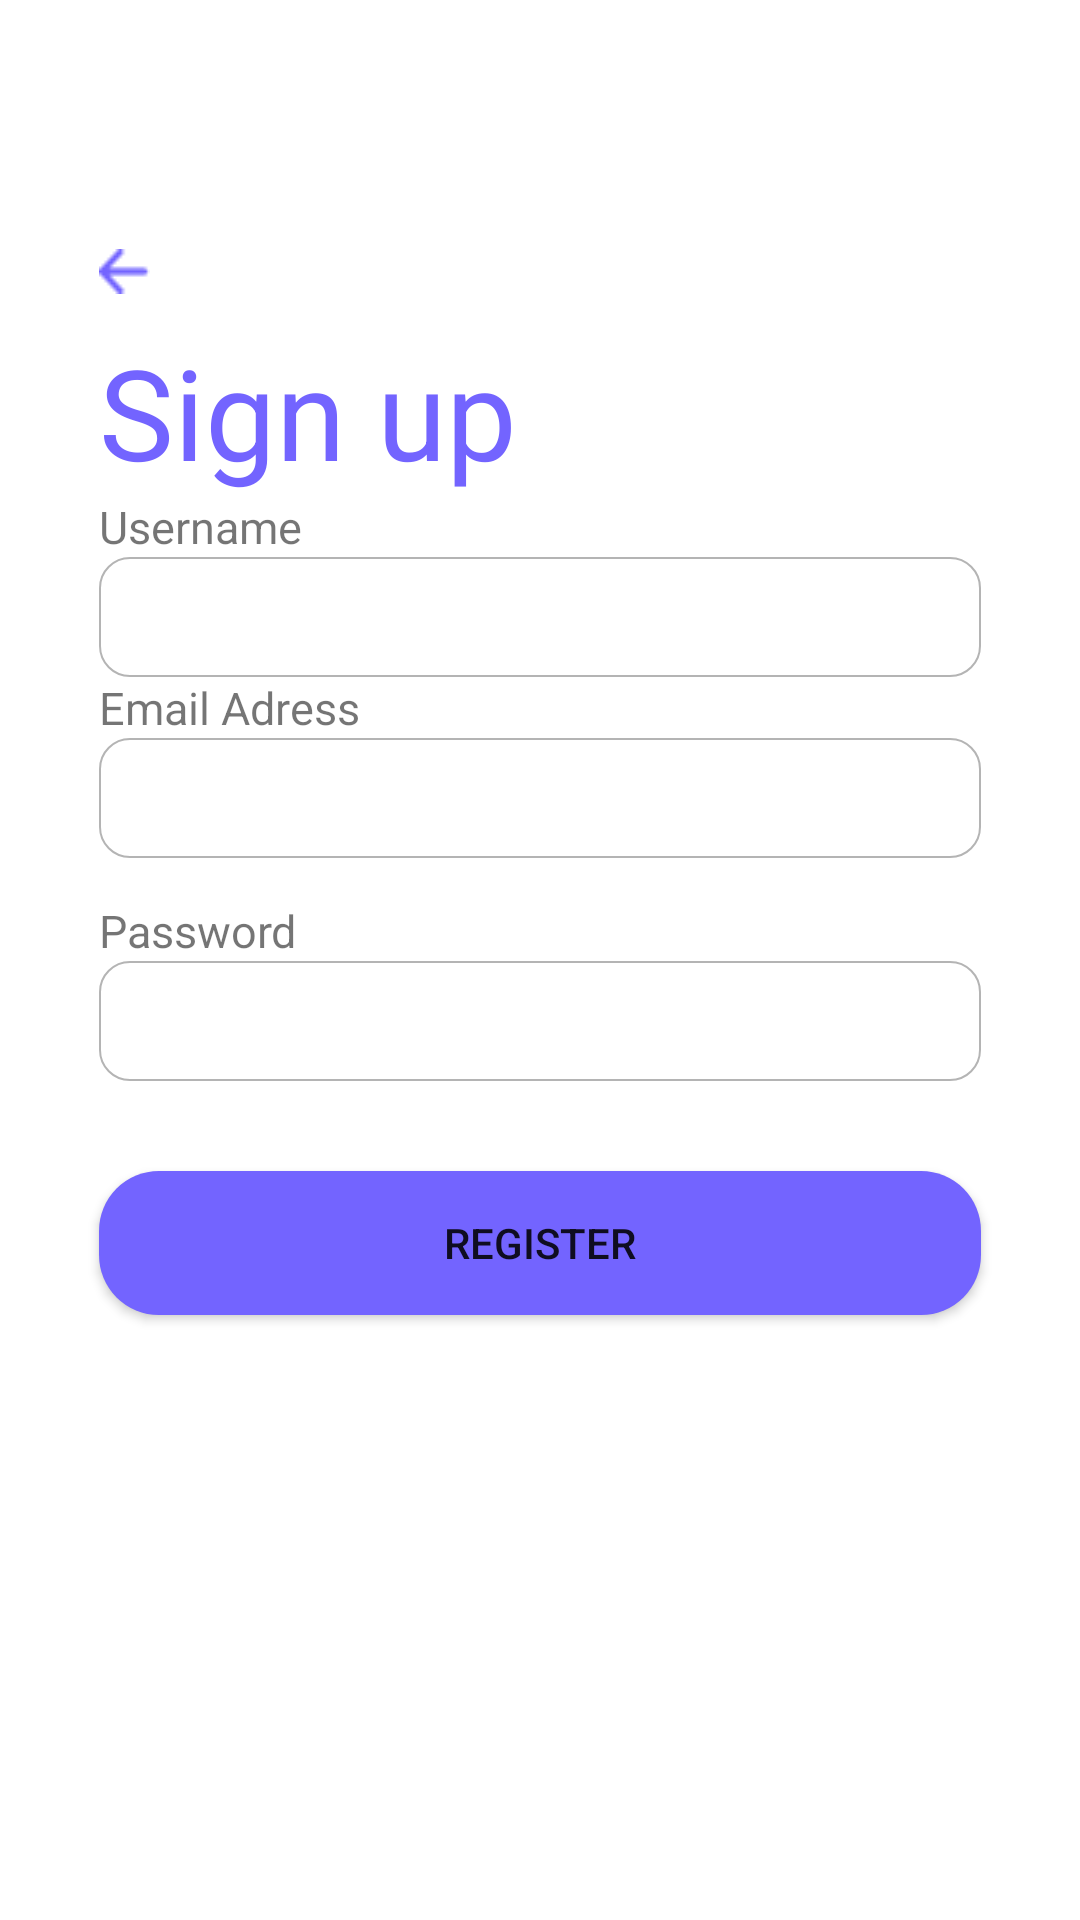

Icons on this 1080x1920 Android screen, each with its box as [x1=x1, y1=y1, x2=x2, y2=y2]:
back: [x1=99, y1=249, x2=148, y2=294]
